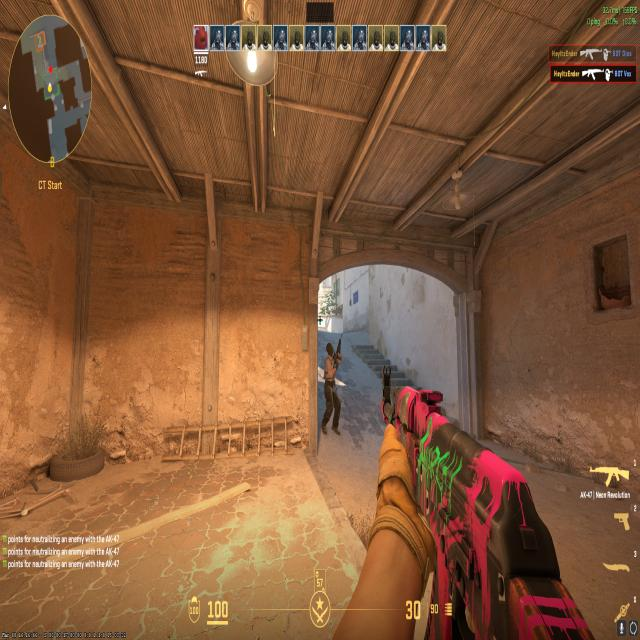t: (315, 334, 346, 438)
